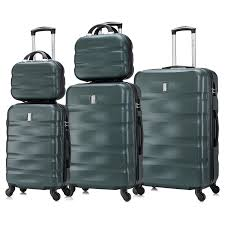suitcase: (133, 27, 221, 202), (65, 24, 143, 200), (4, 27, 69, 199)
